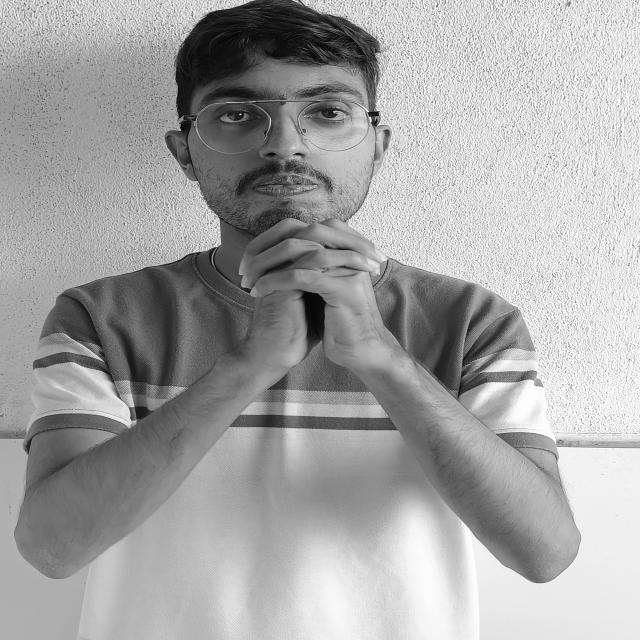Sorry: (162, 207, 464, 406)
